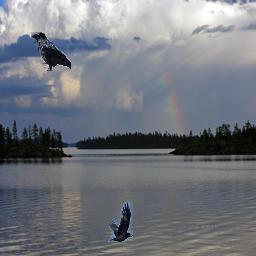Crow: (31, 32, 71, 71), (108, 202, 133, 242)
